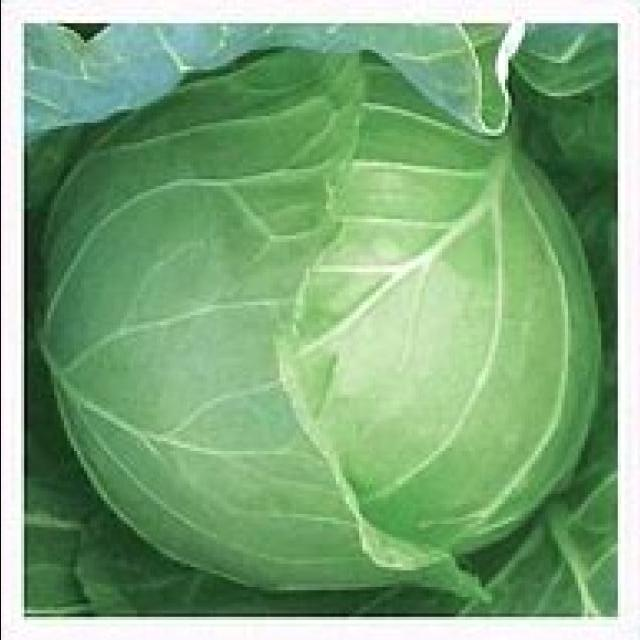cabbage: (23, 21, 603, 624)
